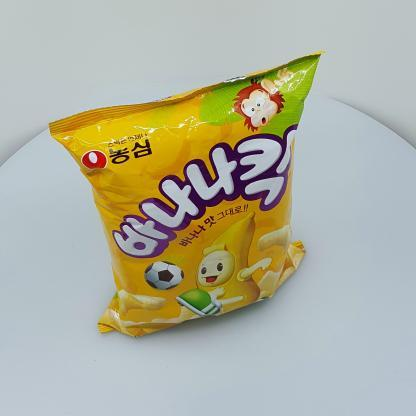Plastic Packaging: (46, 47, 342, 345)
